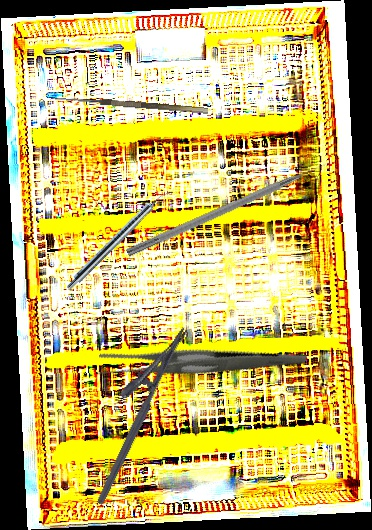Dressing Forceps: (93, 297, 308, 432)
Handpiece: (64, 184, 174, 294)
Hook Surgical: (125, 156, 335, 260), (49, 94, 209, 122)
Needle Holder: (71, 314, 191, 506)
